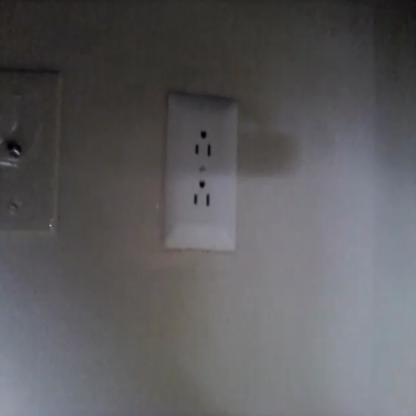OUTLET: (162, 98, 238, 252)
